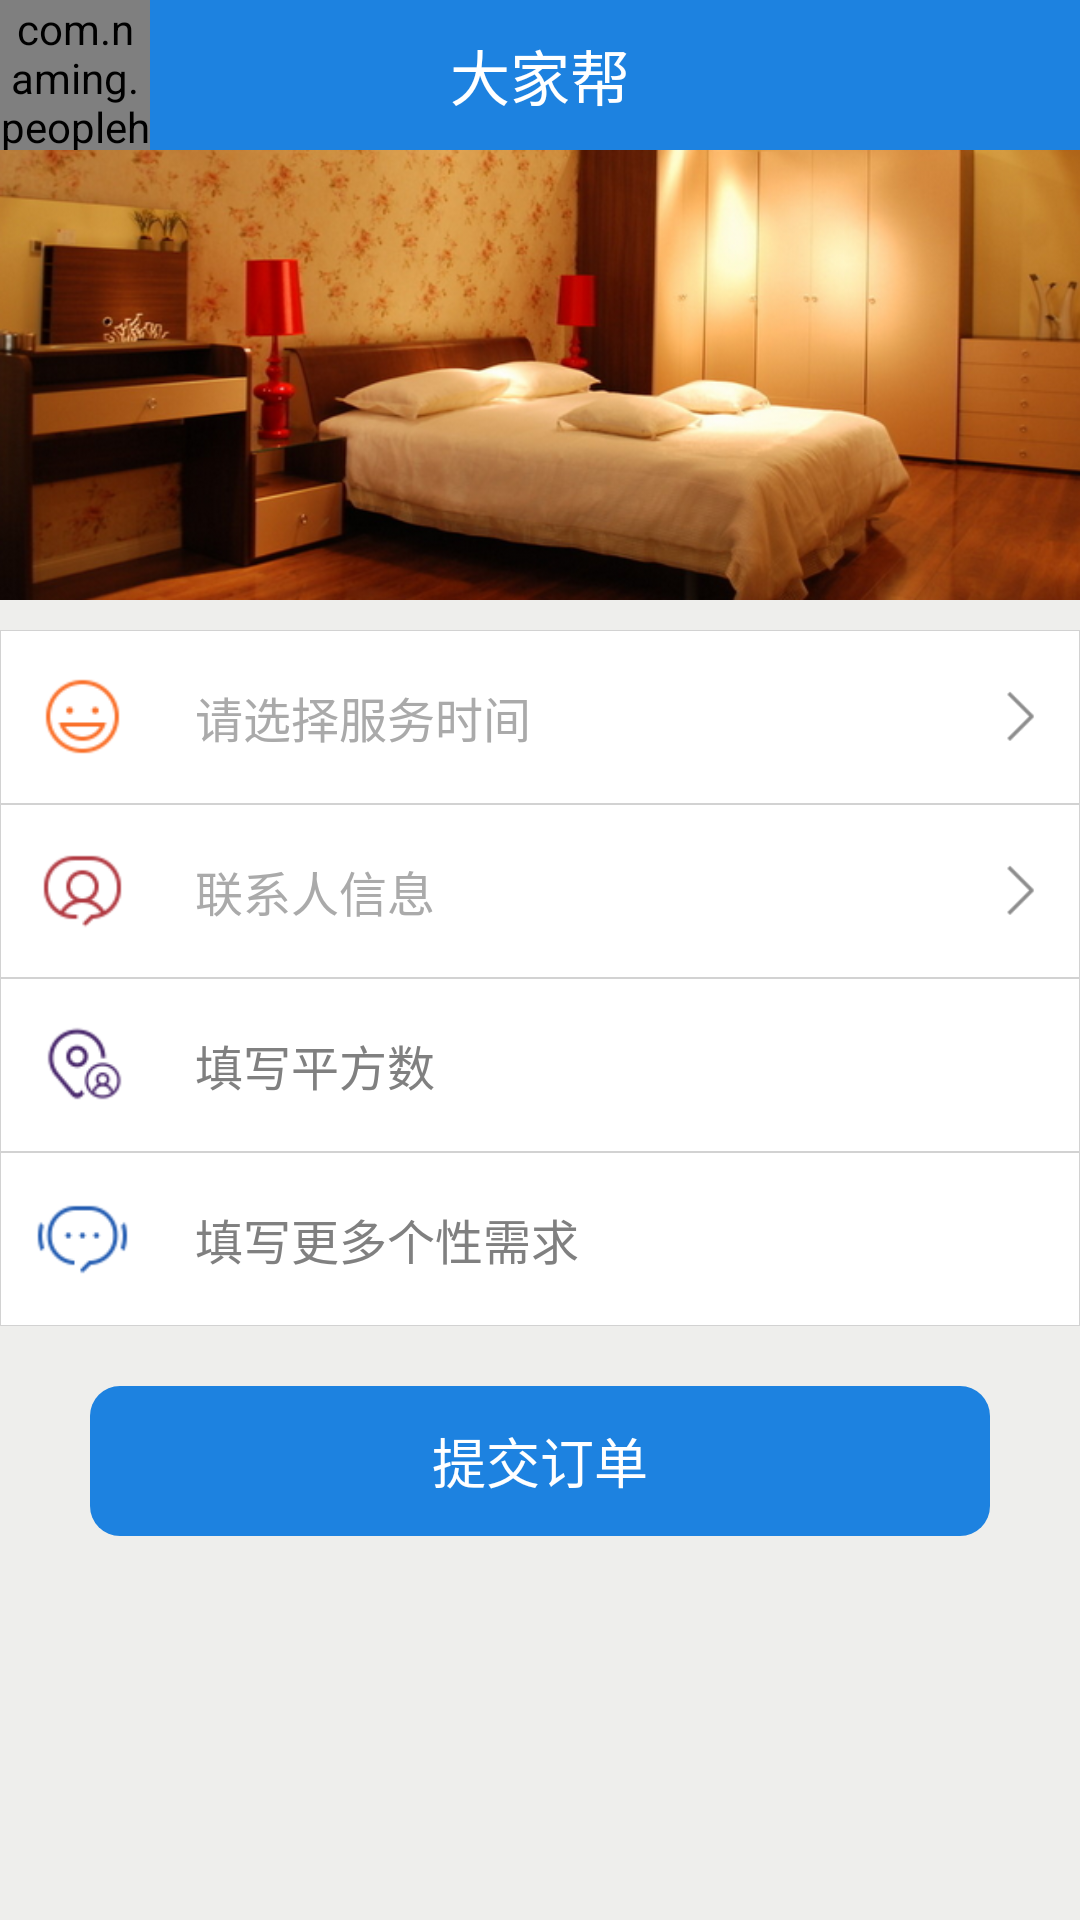

Locate icon controls on the screen. Image size 1080 × 1920, boxes as (x1, y1, x2, y2).
forward: (1007, 692, 1034, 741), (1007, 866, 1034, 915)
house address: (48, 1028, 122, 1099)
user info: (43, 855, 122, 927)
